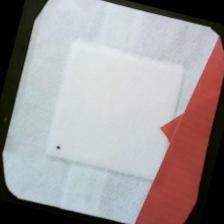Dressing: (1, 1, 224, 224)
F_Body: (48, 138, 68, 158)
Red_T: (130, 20, 224, 224)
